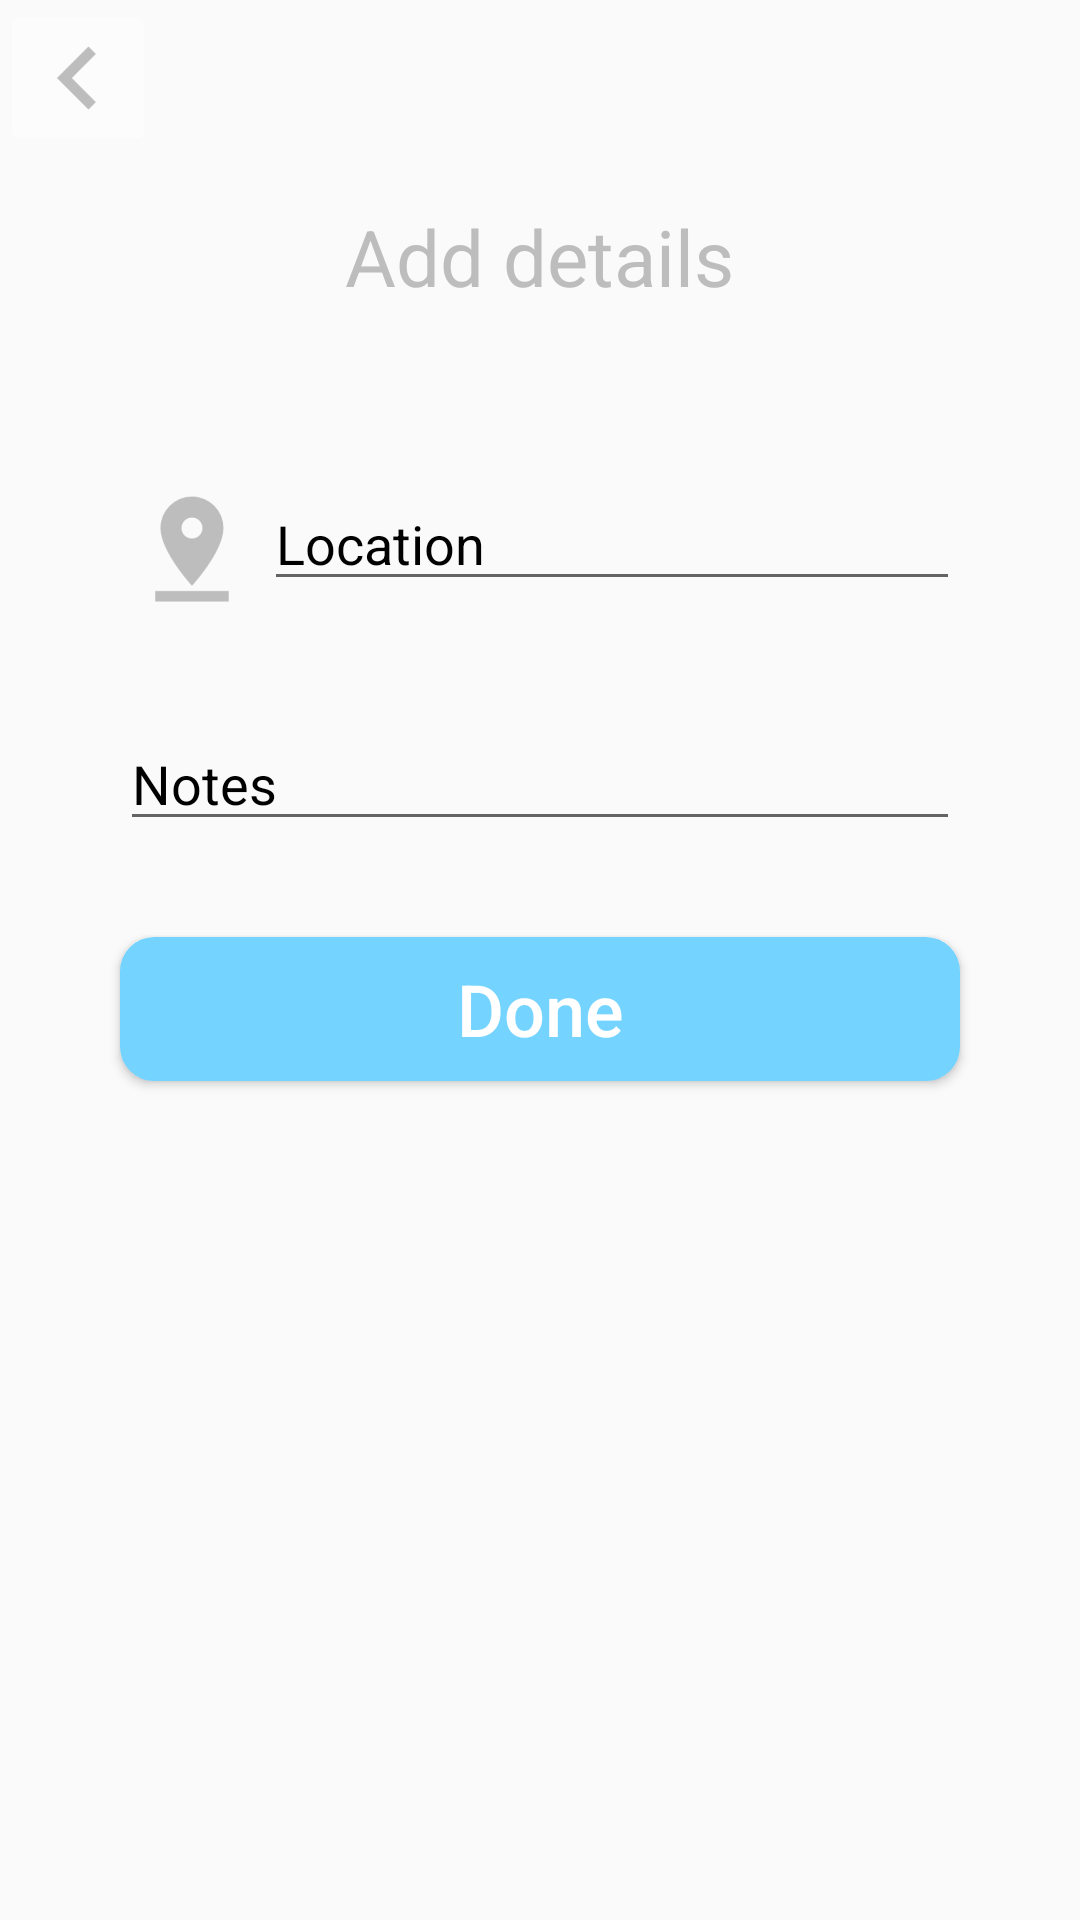

Screen size 1080px x 1920px. Icon name, then its box in pixels as (x1, y1, x2, y2):
back: (57, 47, 96, 109)
